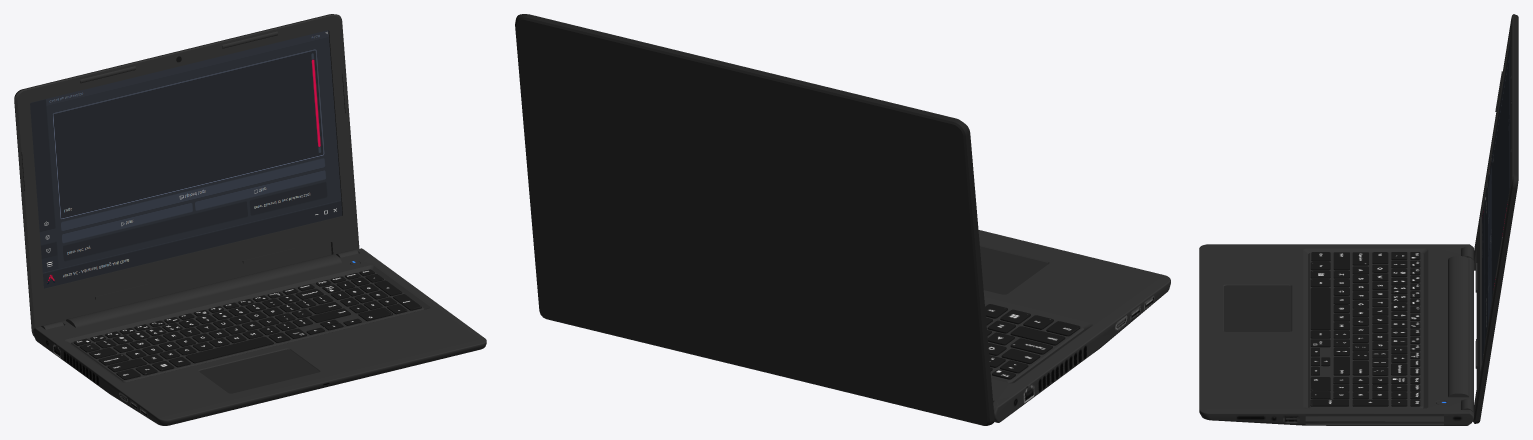
Rendered from laptop.gltf.
The picture shows the model from 3 angles, left to right: view 1: azimuth 30°, elevation 25°; view 2: azimuth 150°, elevation 25°; view 3: azimuth 270°, elevation 25°; orthographic projection. The views are drawn at different scales.
Visible parts, largest first — view 1: Laptop_screen_NakedSingularity, Laptop_body_NakedSingularity; view 2: Laptop_screen_NakedSingularity, Laptop_body_NakedSingularity; view 3: Laptop_body_NakedSingularity, Laptop_screen_NakedSingularity.
Part boxes in pixels (x1,y1,x2,y2): Laptop_screen_NakedSingularity: (14,14,359,335); Laptop_body_NakedSingularity: (33,248,486,425); Laptop_screen_NakedSingularity: (515,14,994,425); Laptop_body_NakedSingularity: (978,230,1170,422); Laptop_body_NakedSingularity: (1199,244,1473,425); Laptop_screen_NakedSingularity: (1461,14,1518,423).
Bounding box in the file's own units: 0.3789 × 0.2596 × 0.3022.
3 materials, 2 textured.
